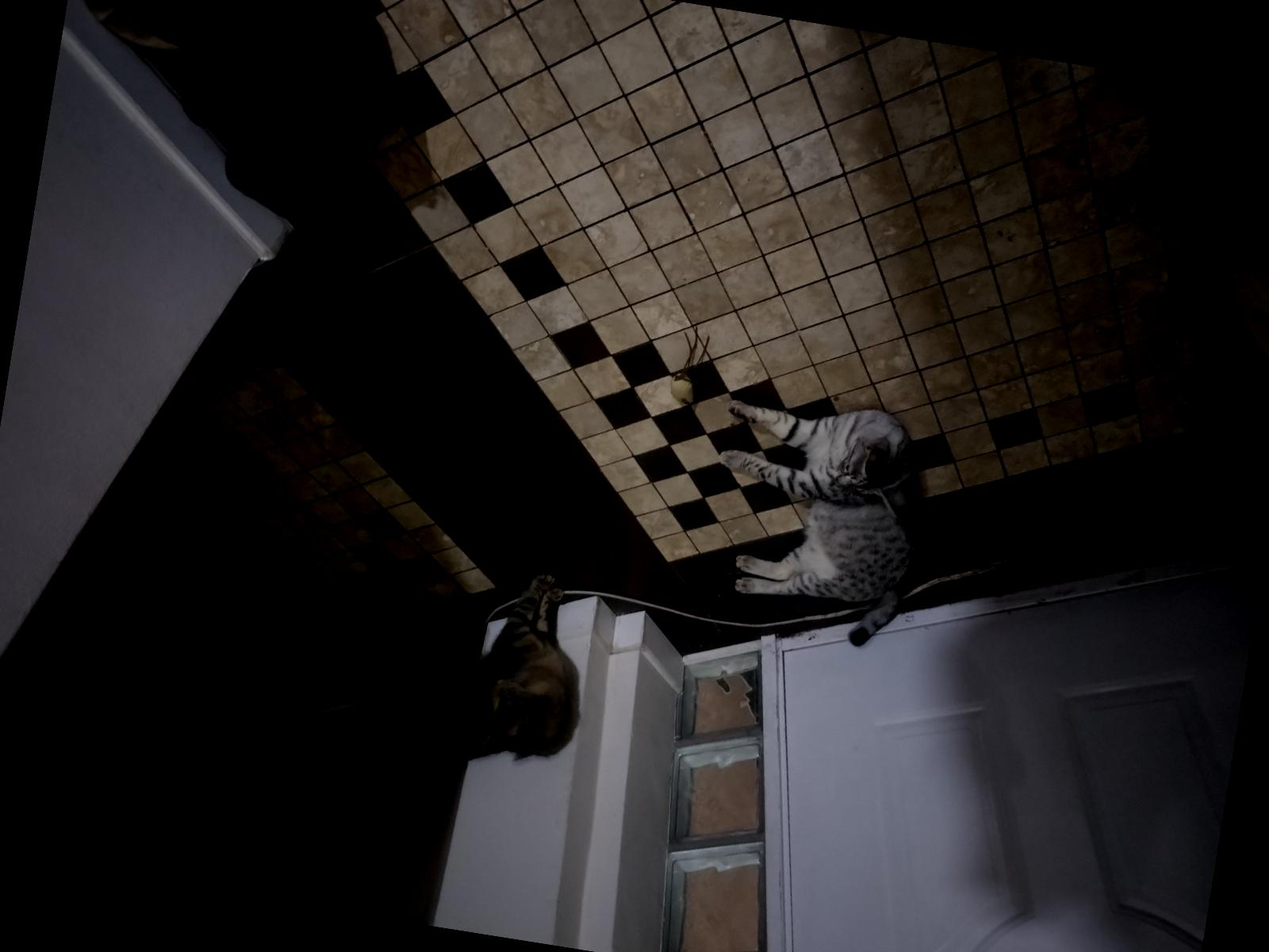macka: (336, 548, 591, 908), (689, 384, 951, 654)
